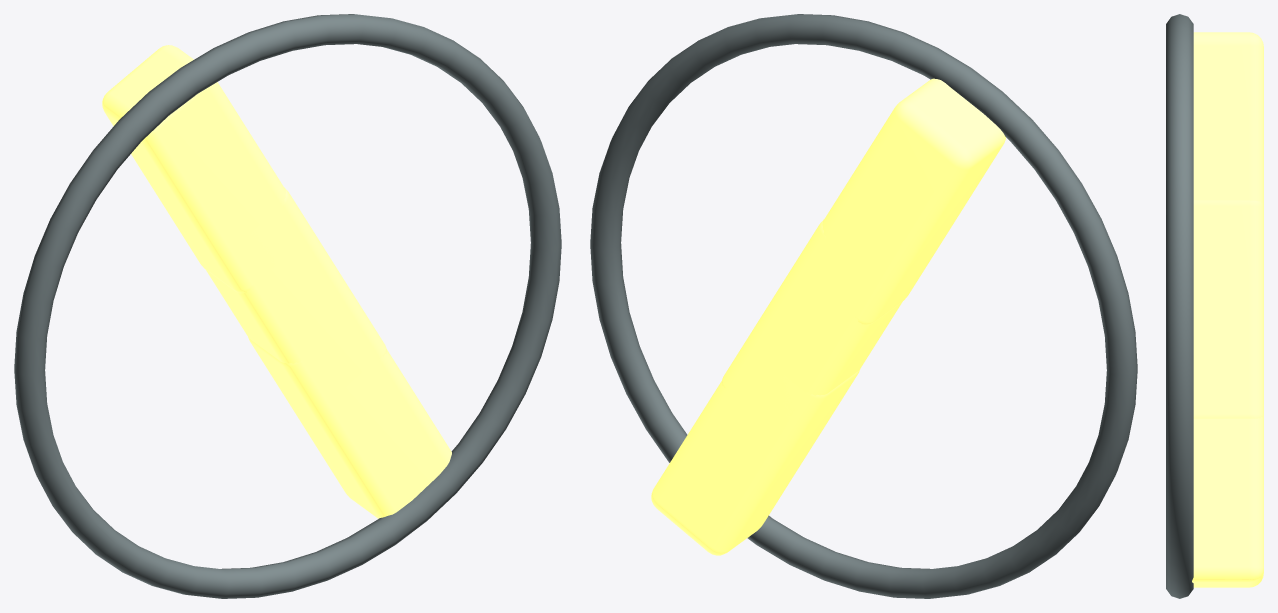
Rendered from power_pull.glb.
3 views of the same model, side by side, from view 1: azimuth 30°, elevation 25°; view 2: azimuth 150°, elevation 25°; view 3: azimuth 270°, elevation 25° (orthographic). The views are drawn at different scales.
Visible parts, largest first — view 1: field, lightning_0, lightning_2, lightning_1; view 2: field, lightning_0, lightning_2, lightning_1; view 3: field, lightning_1, lightning_2, lightning_0.
Part boxes in pixels (left/top/right/bottom): field: left=14, top=14, right=561, bottom=598; lightning_0: left=102, top=45, right=286, bottom=293; lightning_2: left=248, top=337, right=451, bottom=518; lightning_1: left=206, top=187, right=386, bottom=401; field: left=590, top=14, right=1137, bottom=598; lightning_0: left=805, top=78, right=1005, bottom=325; lightning_2: left=651, top=362, right=860, bottom=555; lightning_1: left=721, top=219, right=902, bottom=432; field: left=1166, top=14, right=1193, bottom=598; lightning_1: left=1193, top=200, right=1263, bottom=418; lightning_2: left=1192, top=415, right=1263, bottom=587; lightning_0: left=1193, top=32, right=1263, bottom=206.
Size of the model in its own units: 1.01 by 1.01 by 0.1688.
